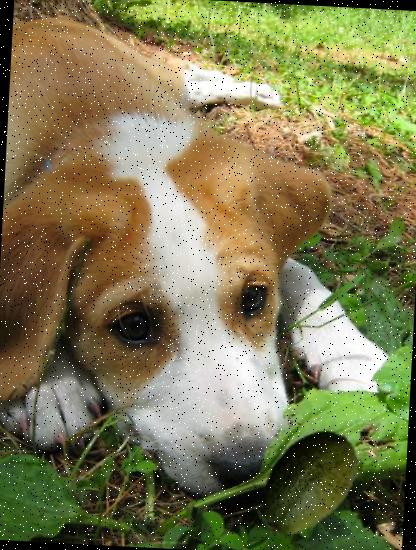Avocado: (244, 419, 372, 546)
